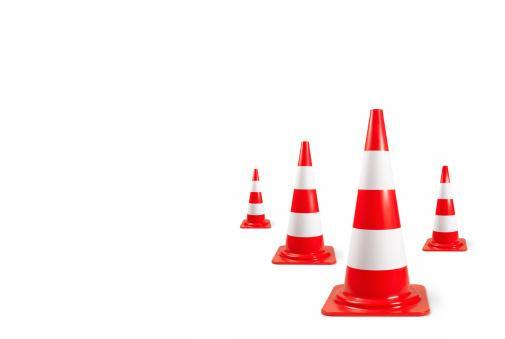Cone: (322, 109, 429, 317), (274, 141, 337, 266), (426, 166, 465, 256), (241, 169, 273, 230)
